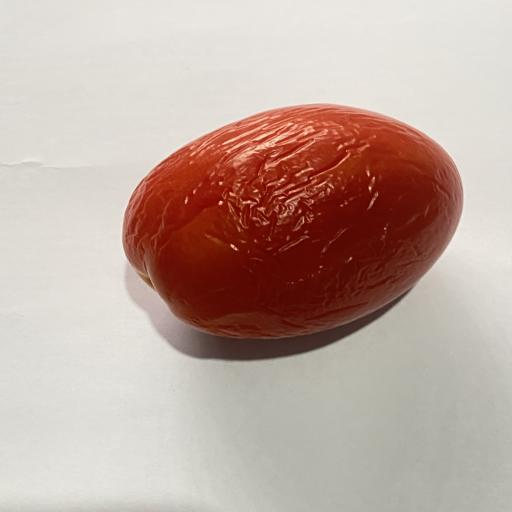spoiled: (123, 105, 462, 338)
